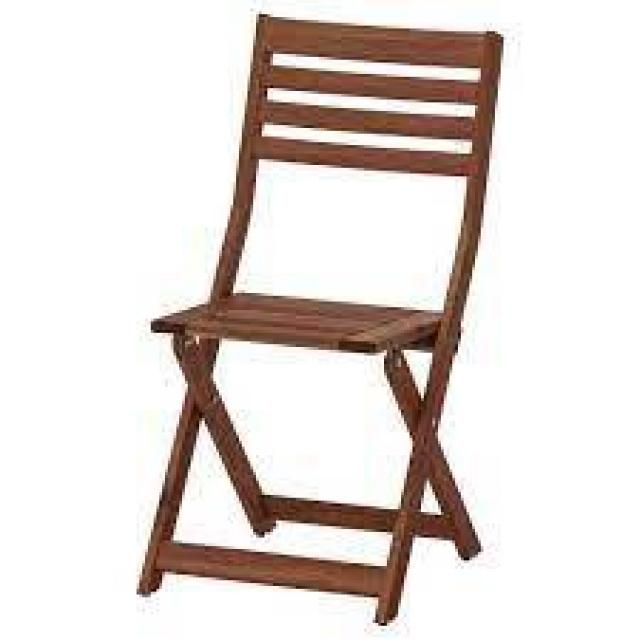chair: (138, 9, 511, 617)
